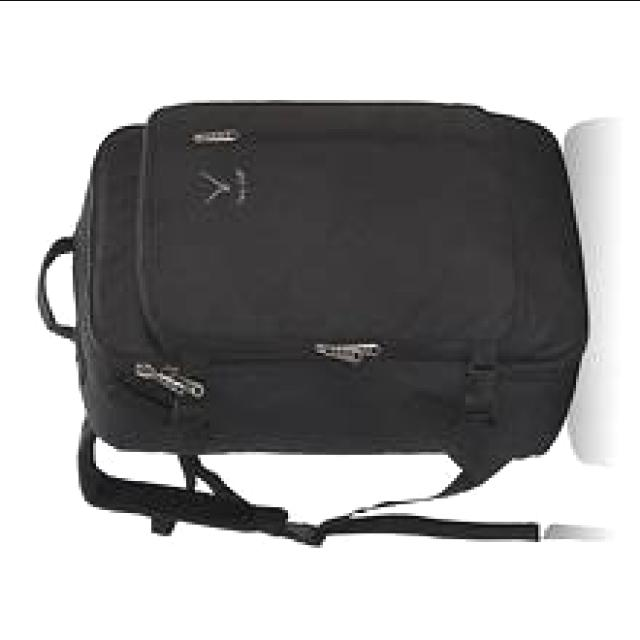backpack: (37, 100, 589, 551)
